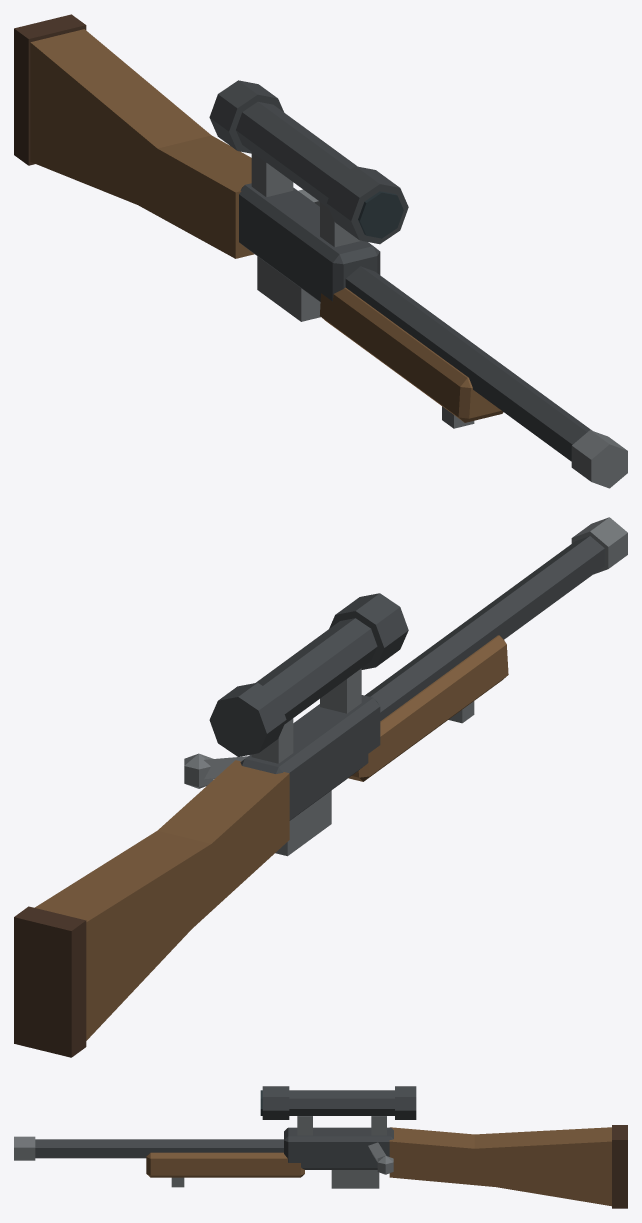
The model's file is item_rifle.glb.
3 views of the same model, one above another, from view 1: azimuth 30°, elevation 25°; view 2: azimuth 150°, elevation 25°; view 3: azimuth 270°, elevation 25° (orthographic). The views are drawn at different scales.
Parts seen in each view (by area): view 1: rifle; view 2: rifle; view 3: rifle.
Part boxes in pixels (left/top/right/bottom): rifle: left=14, top=14, right=627, bottom=488; rifle: left=14, top=517, right=627, bottom=1057; rifle: left=14, top=1086, right=627, bottom=1208.
Size of the model in its own units: 0.1313 by 0.238 by 1.16.
